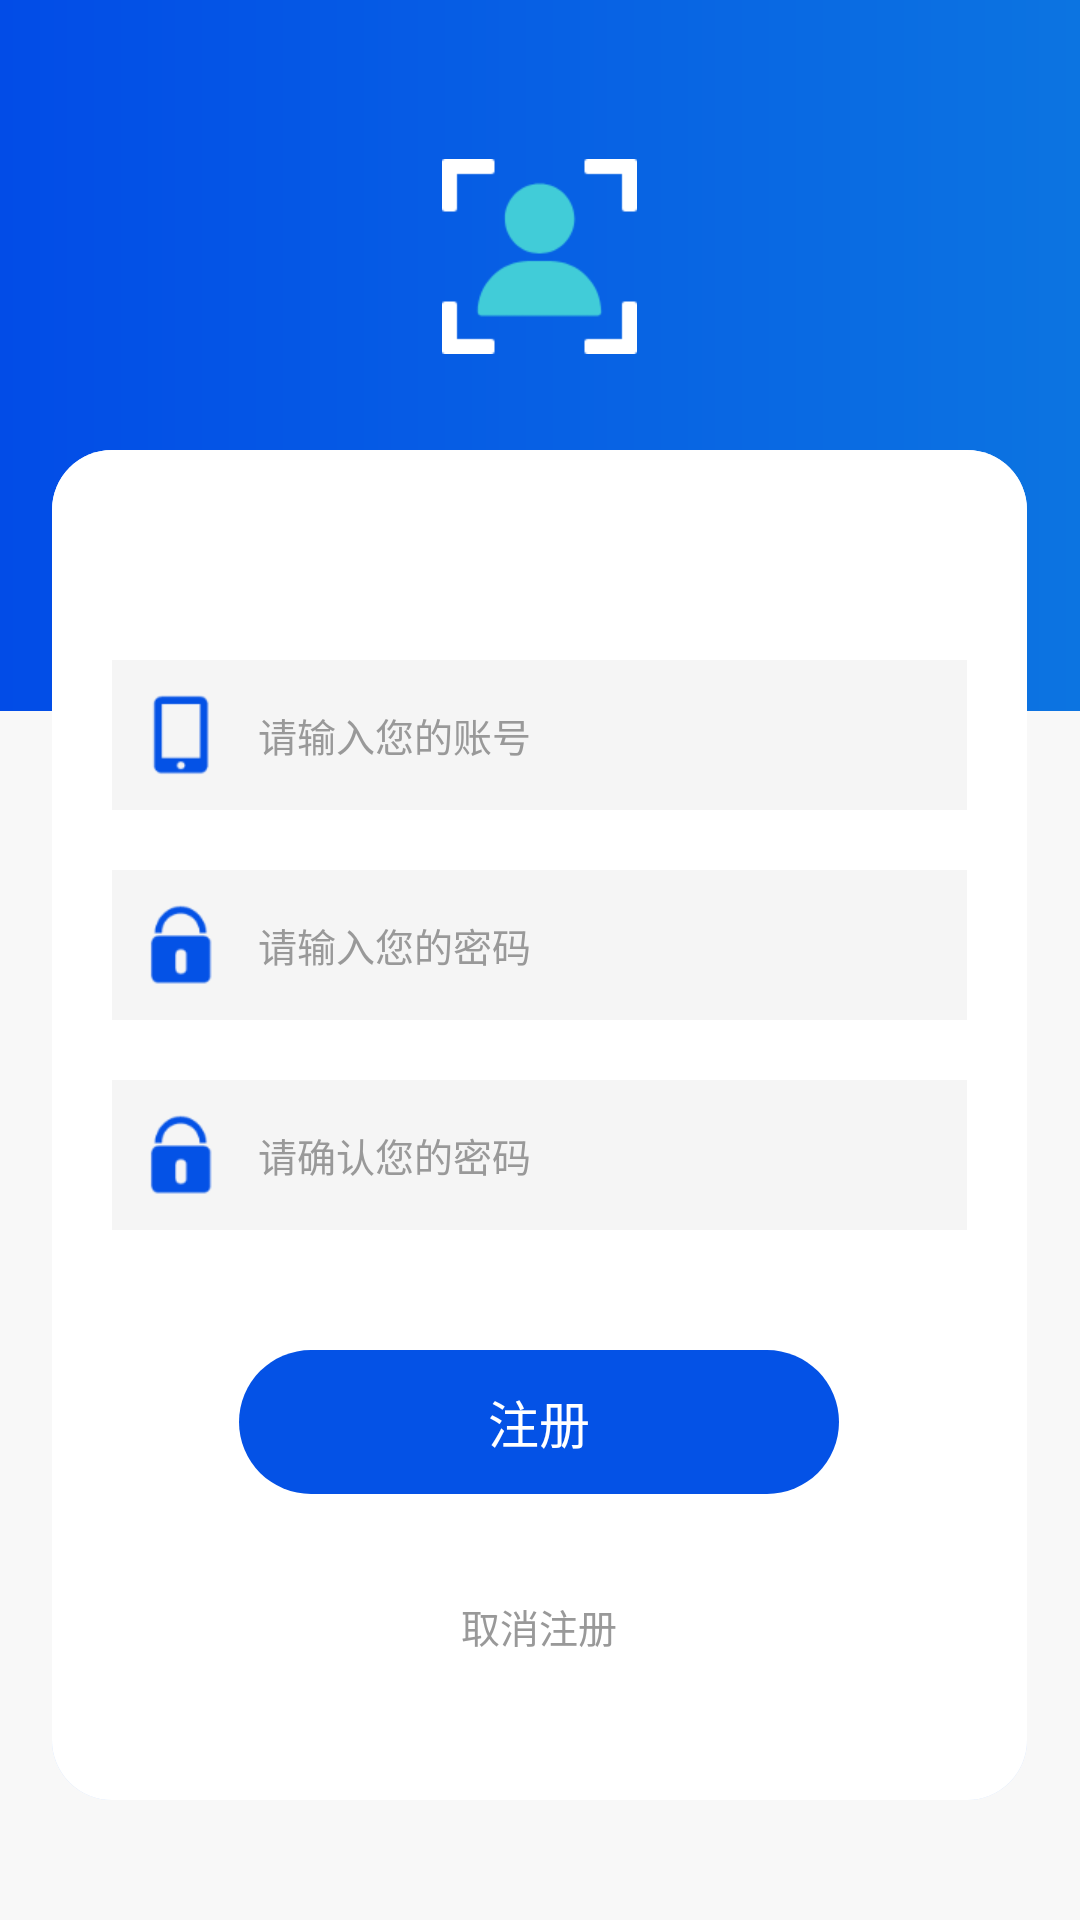

Icon click points for this 1080×1920 phone screenshot, format [x,y]:
phone: [181,734]
